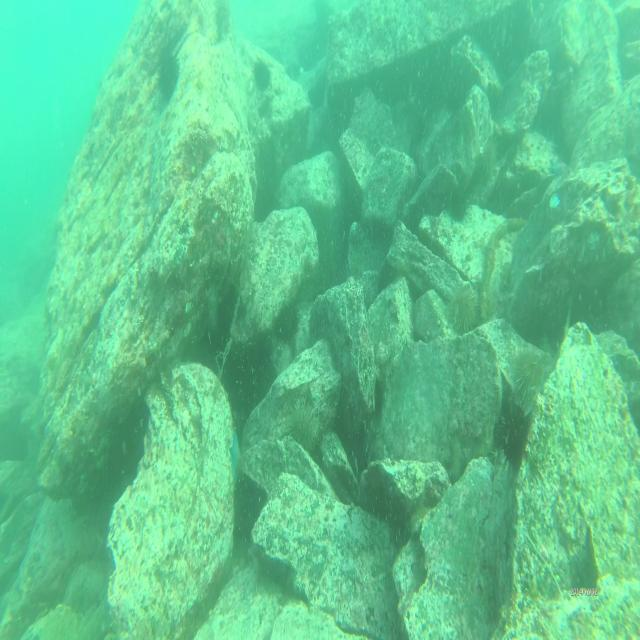echinus: (494, 402, 530, 475), (512, 348, 550, 407), (284, 398, 320, 458), (446, 276, 479, 334), (272, 292, 298, 345), (158, 44, 180, 101), (250, 52, 274, 96), (213, 0, 230, 41)
